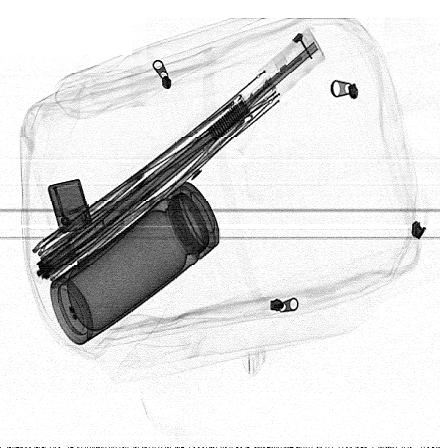Lighter: (47, 178, 93, 233)
